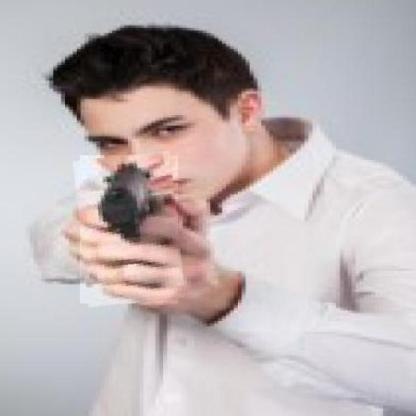handgun: (76, 154, 182, 307)
